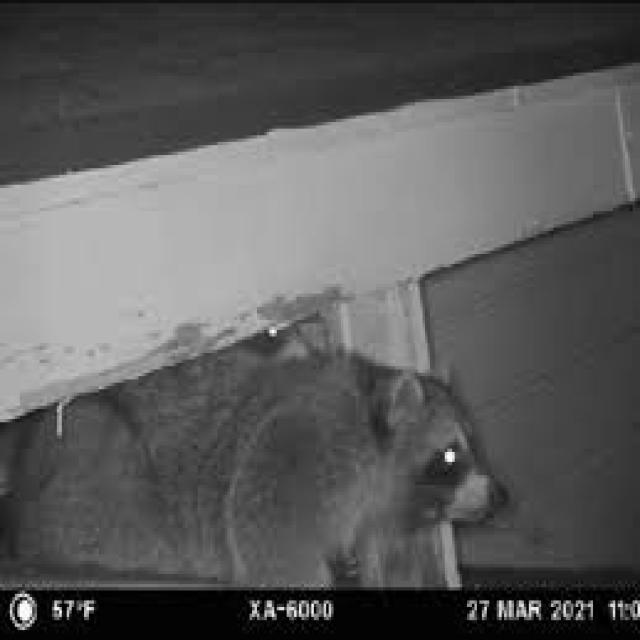raccoon: (10, 323, 504, 584)
